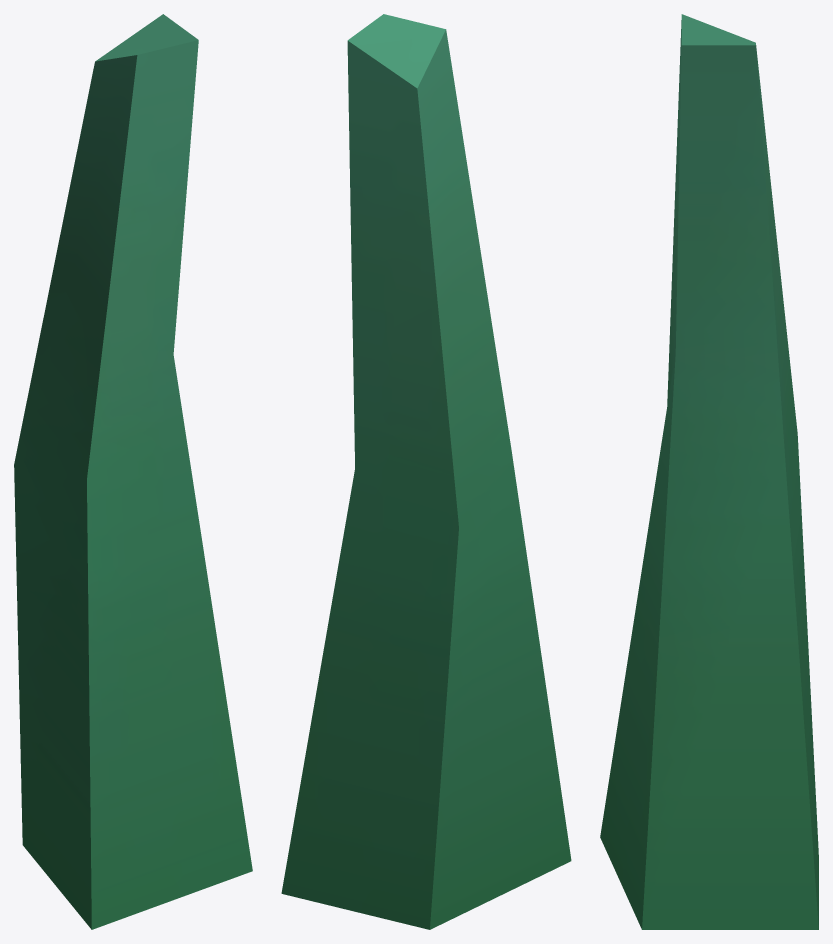
Rendered from vass.glb.
3 views of the same model, side by side, from view 1: azimuth 30°, elevation 25°; view 2: azimuth 150°, elevation 25°; view 3: azimuth 270°, elevation 25° (orthographic). The views are drawn at different scales.
Parts seen in each view (by area): view 1: Reed001; view 2: Reed001; view 3: Reed001.
Boxes of the visible parts, x1,y1,x2,y2 form: Reed001: (14, 14, 252, 929); Reed001: (281, 14, 571, 929); Reed001: (600, 14, 818, 929).
Bounding box in the file's own units: 93.49 × 408 × 93.24.
1 material, 1 textured.
